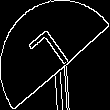L_SE: (30, 25, 80, 85)
